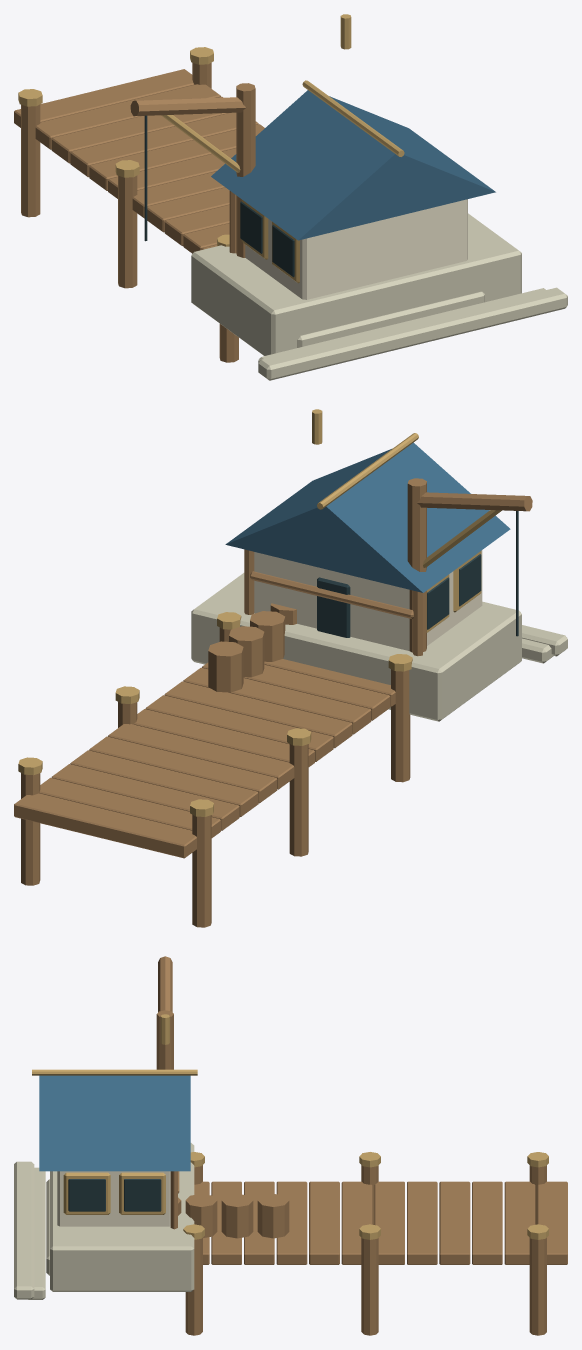
The model's file is level_15.glb.
3 renders of one model, top to bottom at view 1: azimuth 30°, elevation 25°; view 2: azimuth 150°, elevation 25°; view 3: azimuth 270°, elevation 25°, orthographic. The views are drawn at different scales.
Parts seen in each view (by area): view 1: fishing_wharf — level 15; view 2: fishing_wharf — level 15; view 3: fishing_wharf — level 15.
Boxes of the visible parts, <box> form: fishing_wharf — level 15: <box>14,14,567,380</box>; fishing_wharf — level 15: <box>14,409,567,927</box>; fishing_wharf — level 15: <box>14,956,567,1335</box>.
Bounding box in the file's own units: 4.84 × 4.37 × 7.69.
